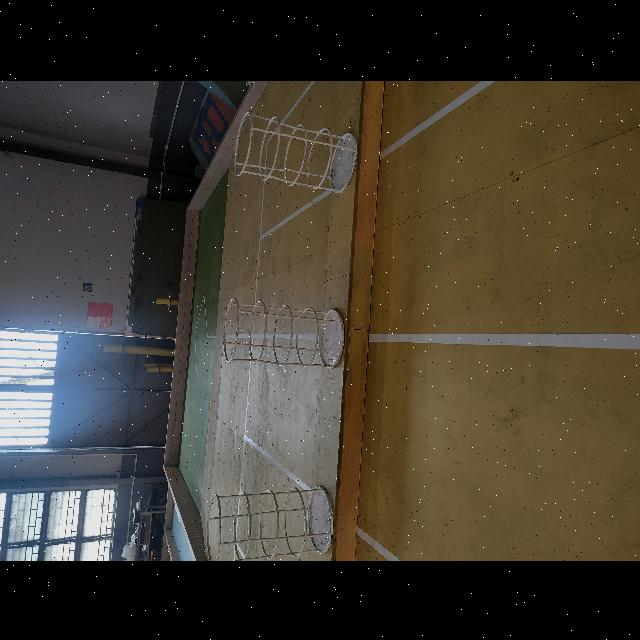S: (233, 109, 358, 194), (206, 483, 335, 560), (223, 296, 345, 368)
